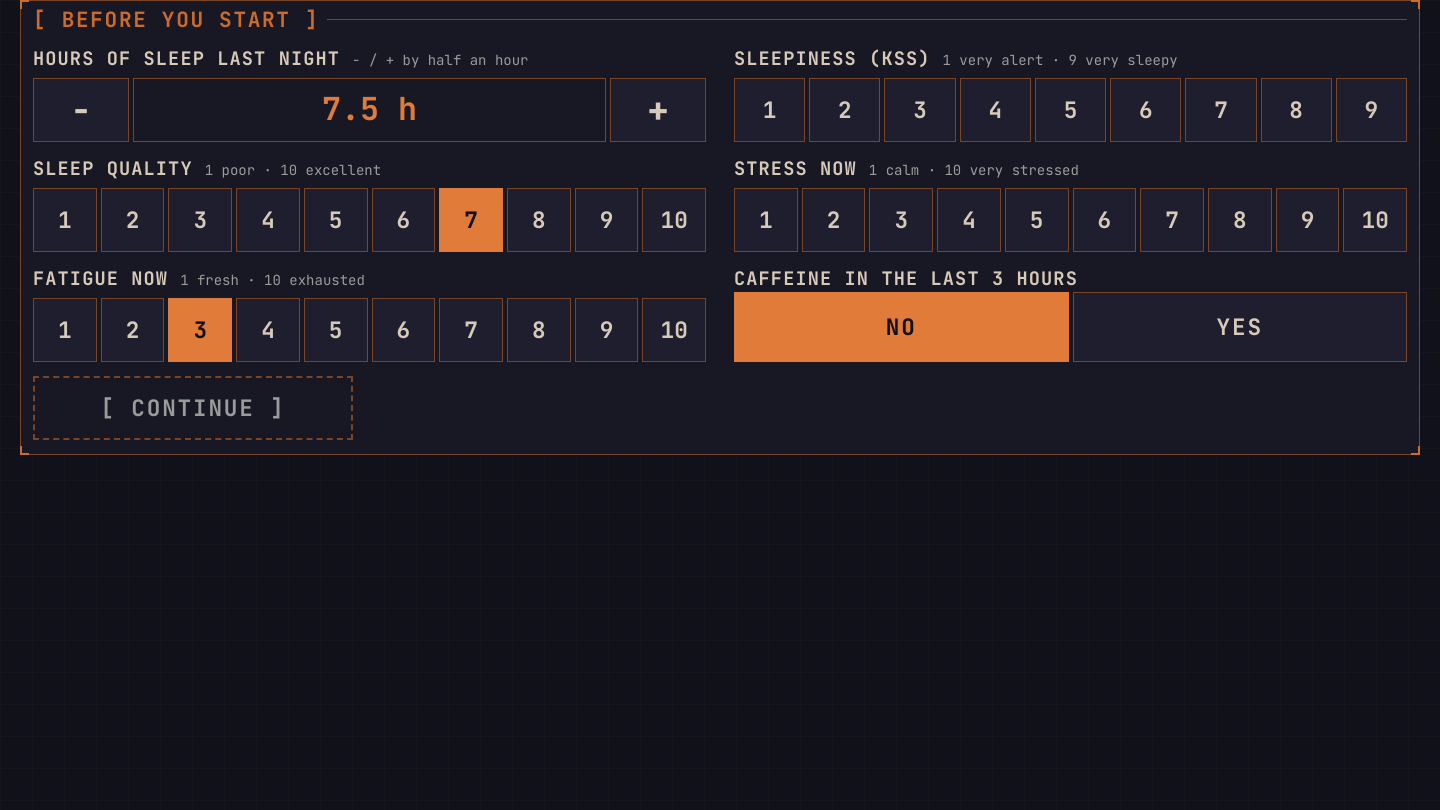
Test case: TestsScreen › hides the app chrome when a session starts running and restores it on leaving
Earlier steps of the test are not shown.
Step 1. Click the button "3" below "Sleepiness (KSS)" → (920, 110), box x1=884 y1=78 x2=956 y2=142
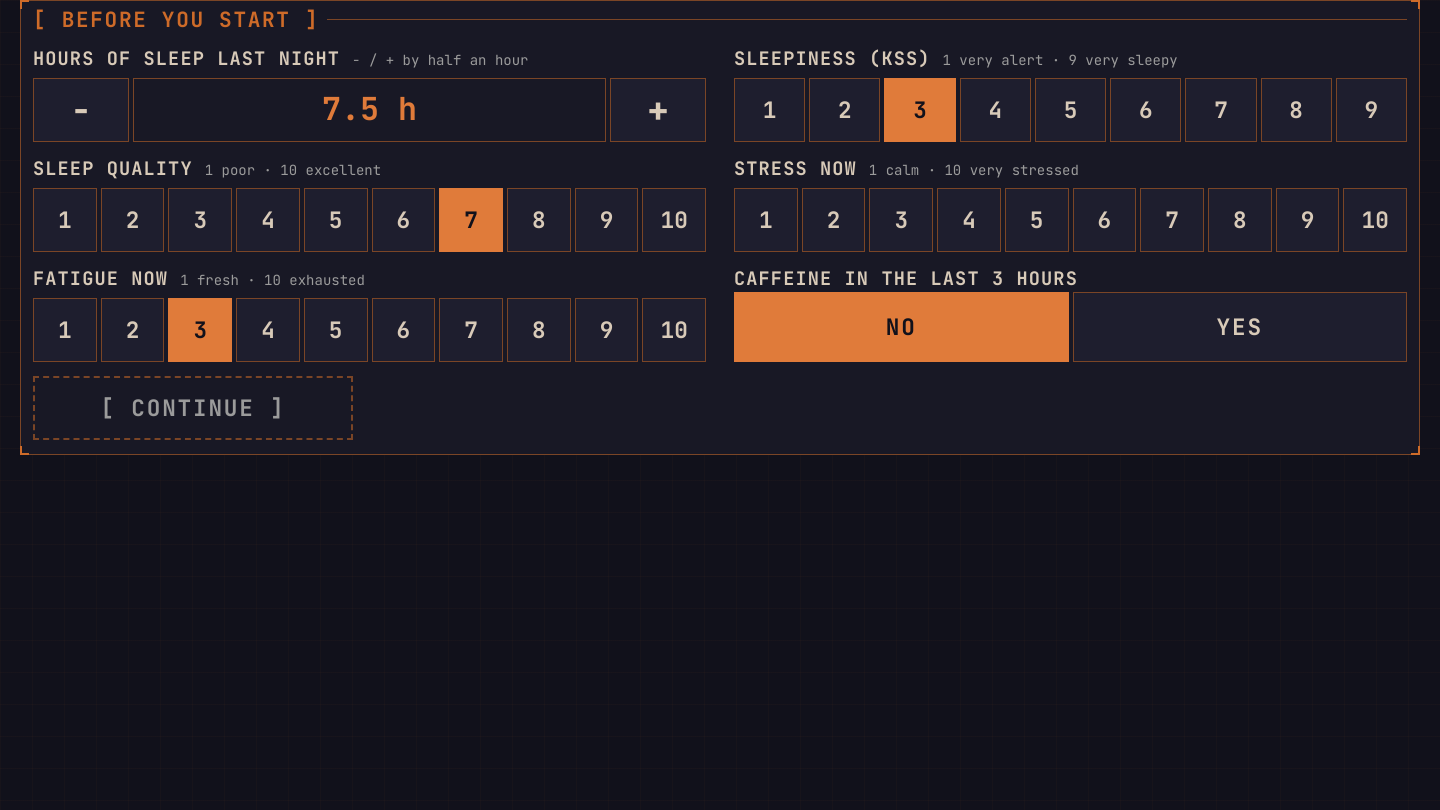
Step 2. Click the button "2" below "Stress now" → (834, 220), box x1=802 y1=188 x2=865 y2=252
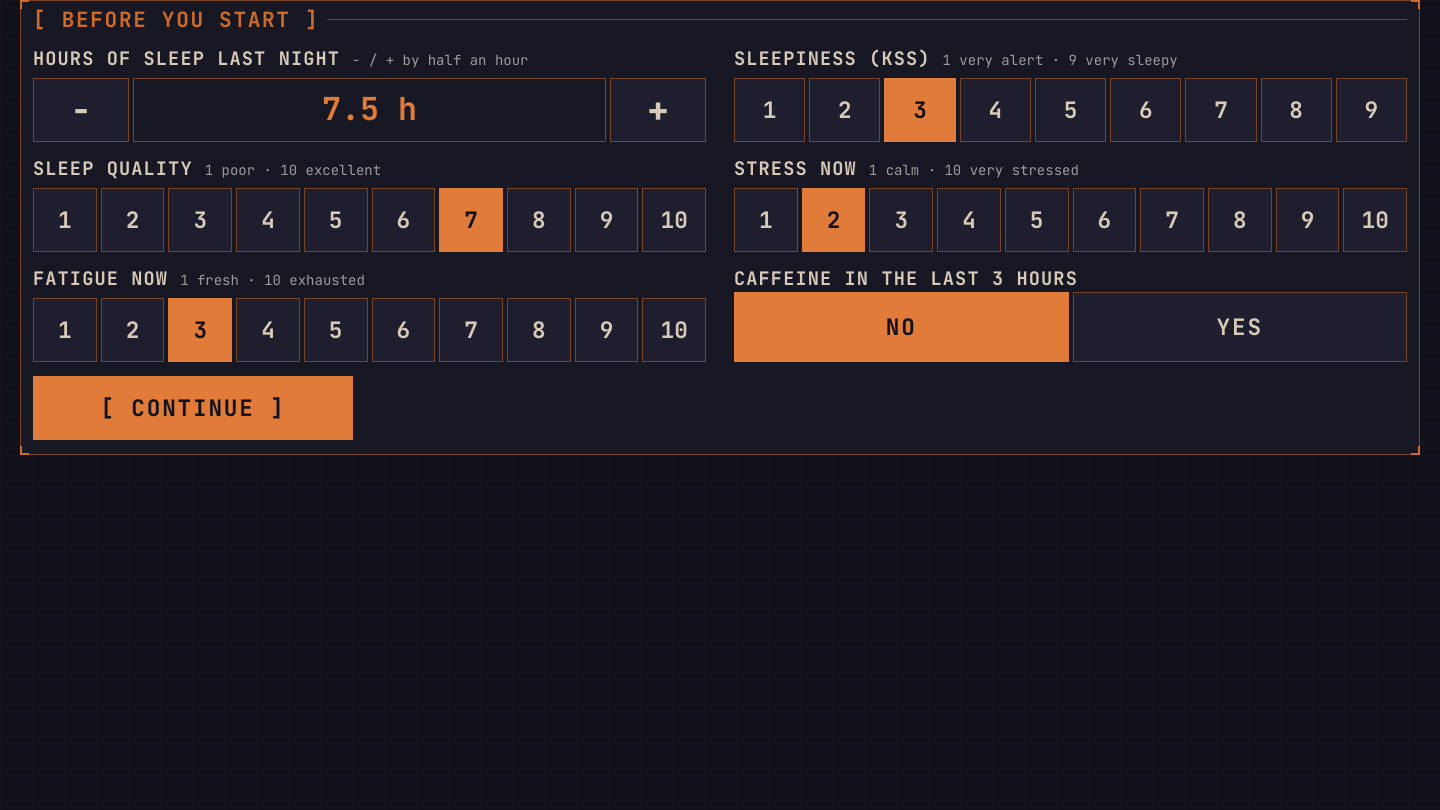
Step 3. Click the radio button "YES" → (1240, 327), box x1=1072 y1=292 x2=1407 y2=362
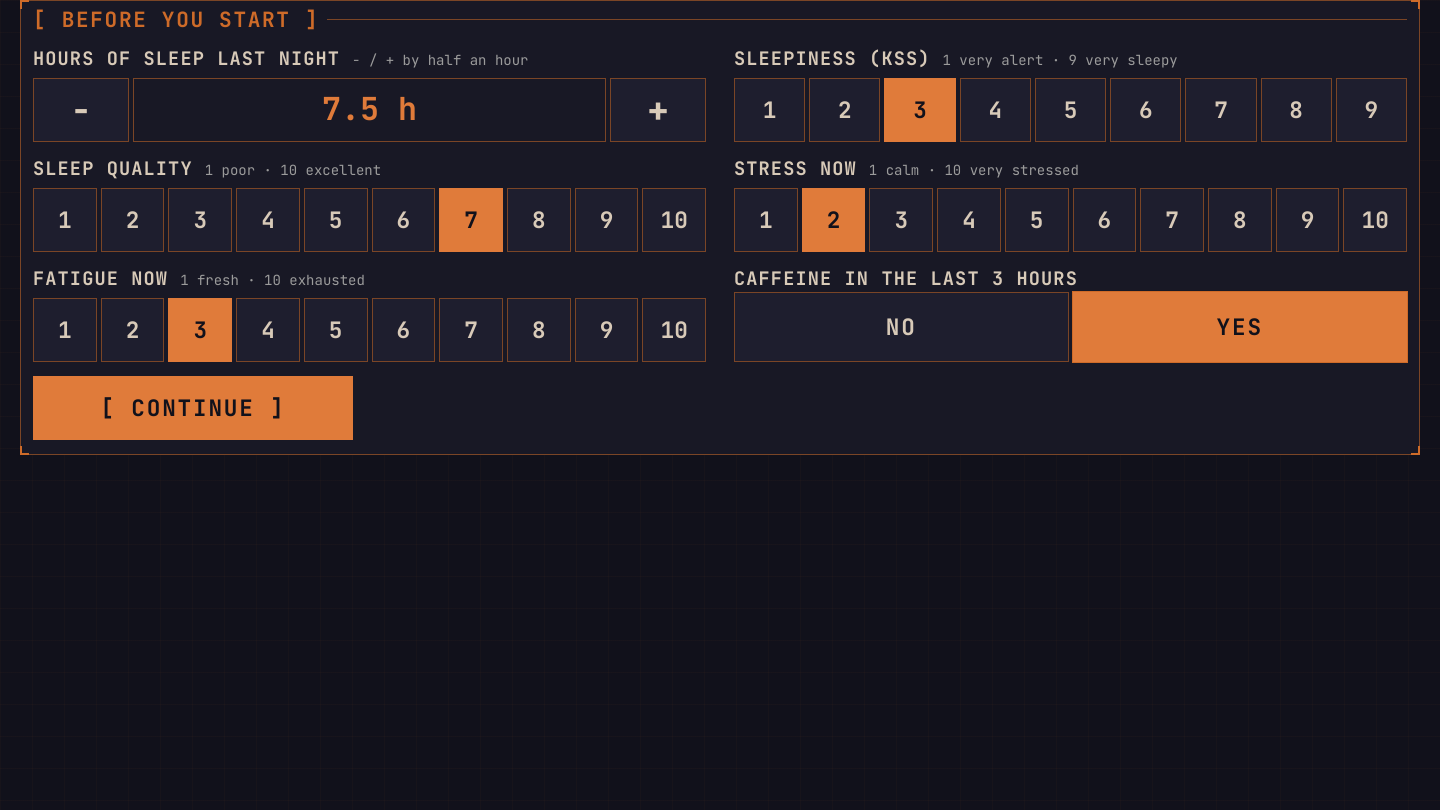
Check: the radio button labelled "YES" is checked, box x1=1072 y1=292 x2=1407 y2=362
Step 4. Click the button "CONTINUE" → (193, 408), box x1=33 y1=376 x2=353 y2=440
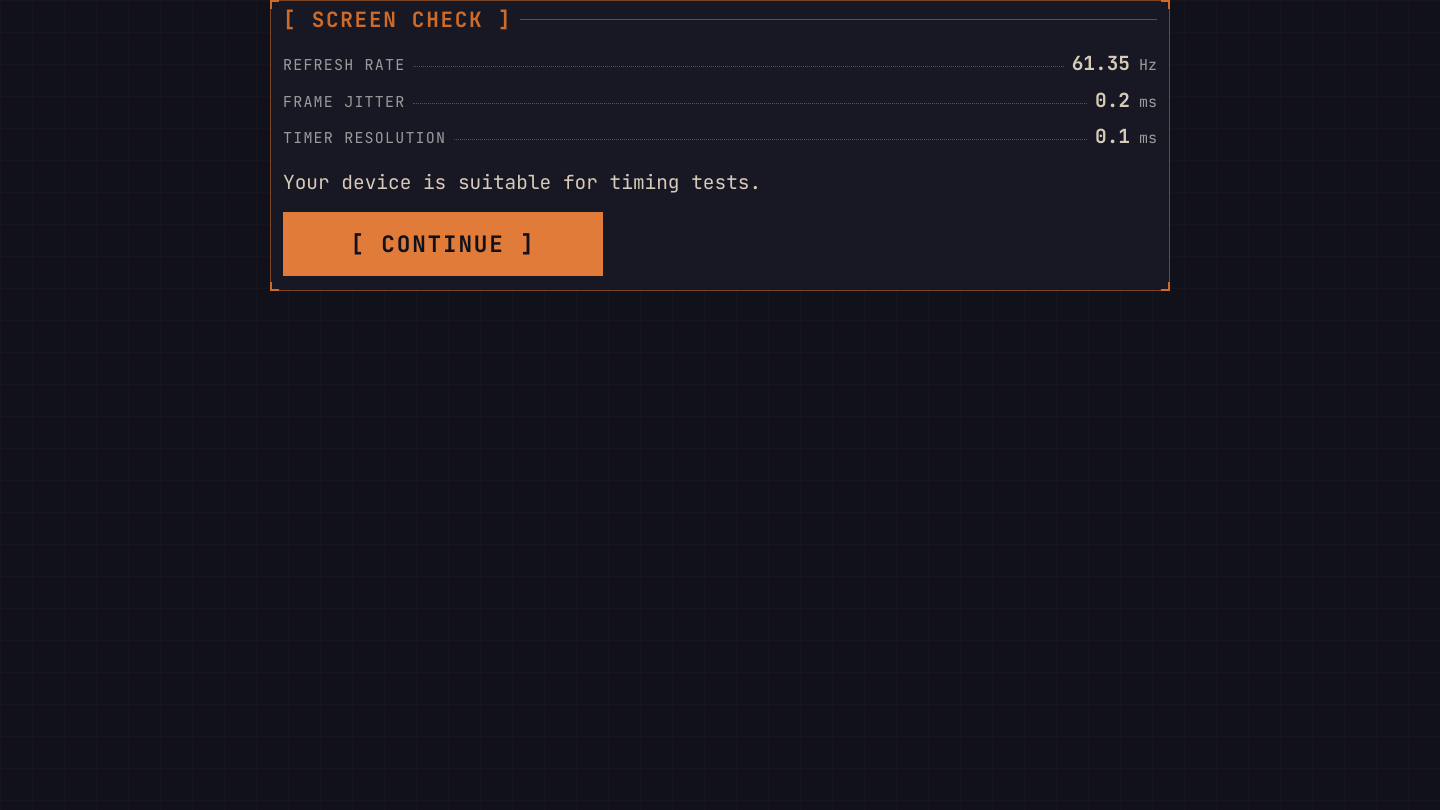
Check: the heading "Screen check" is shown, box x1=312 y1=6 x2=483 y2=33
Step 5. Click the button "CONTINUE" → (443, 244), box x1=283 y1=212 x2=603 y2=276
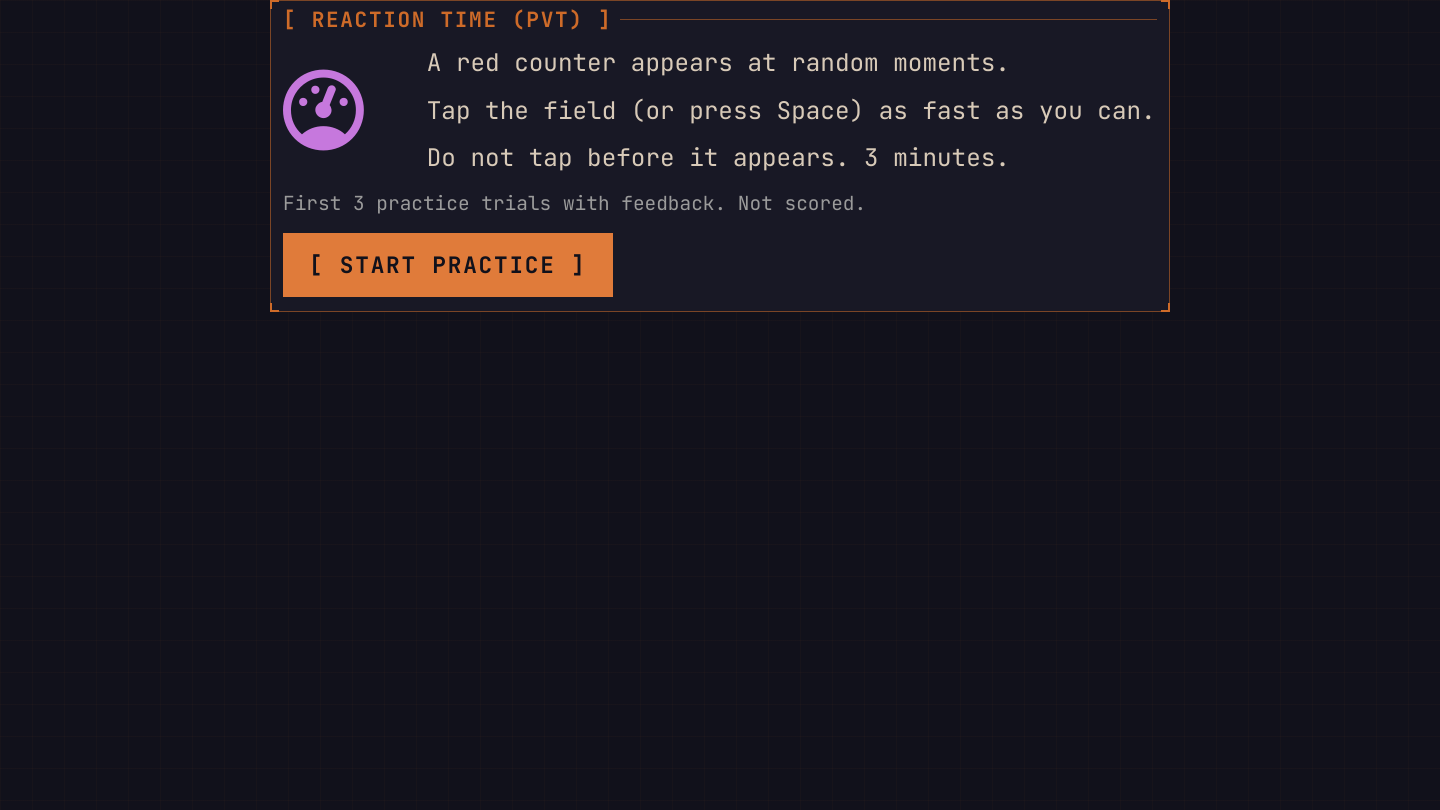
Step 6. Click the button "START PRACTICE" → (448, 265), box x1=283 y1=233 x2=612 y2=297
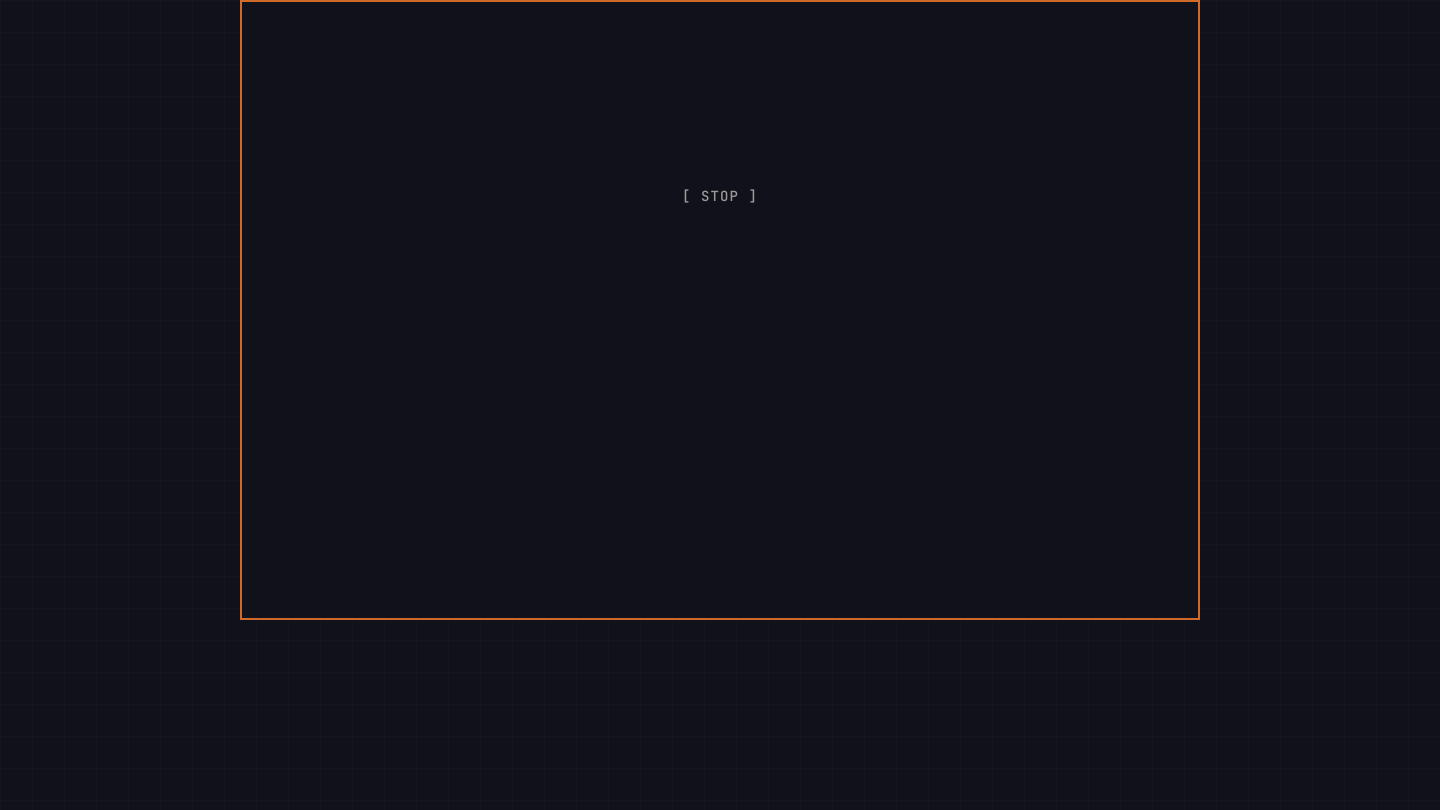
Check: the element with test id "cog-field" is shown, box x1=240 y1=0 x2=1200 y2=620
